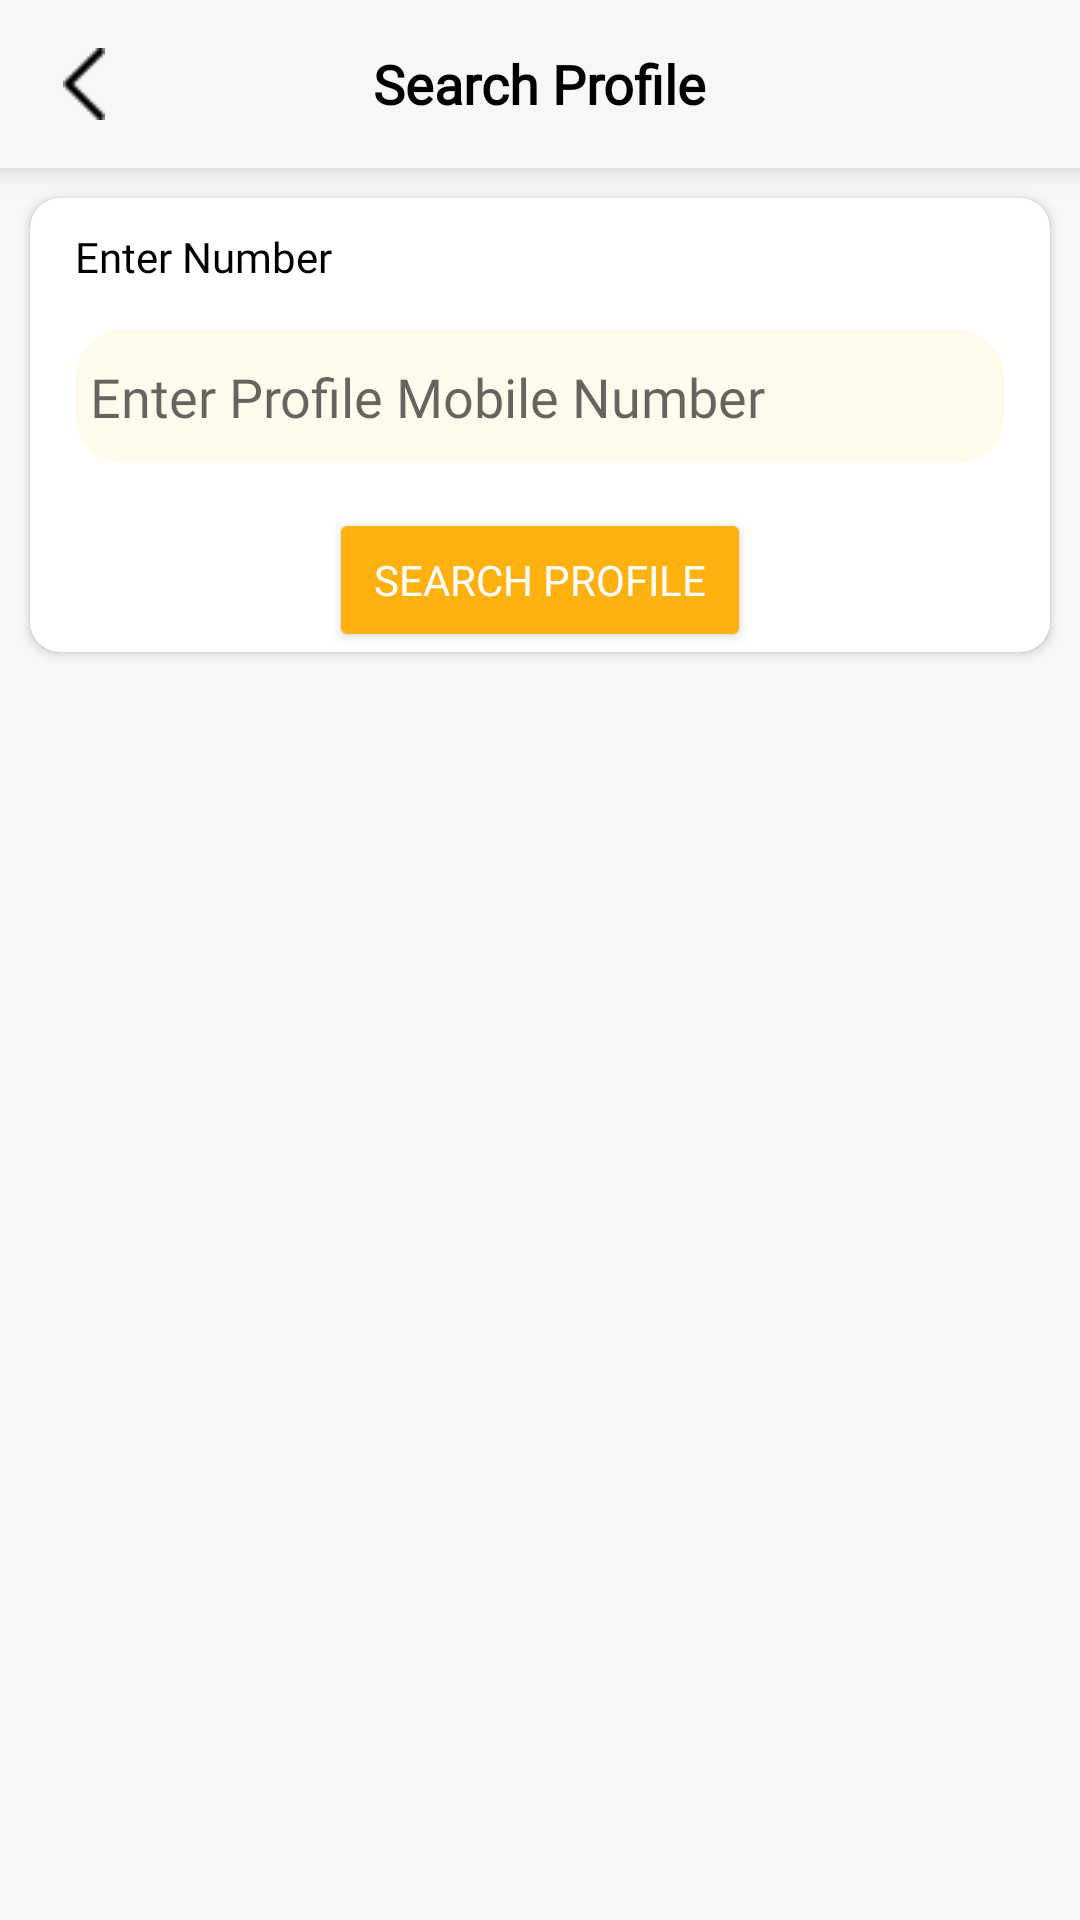

Point at icon controls on the screen. Image size 1080*1920, points as (x=x, y=y).
back: (x=84, y=84)
